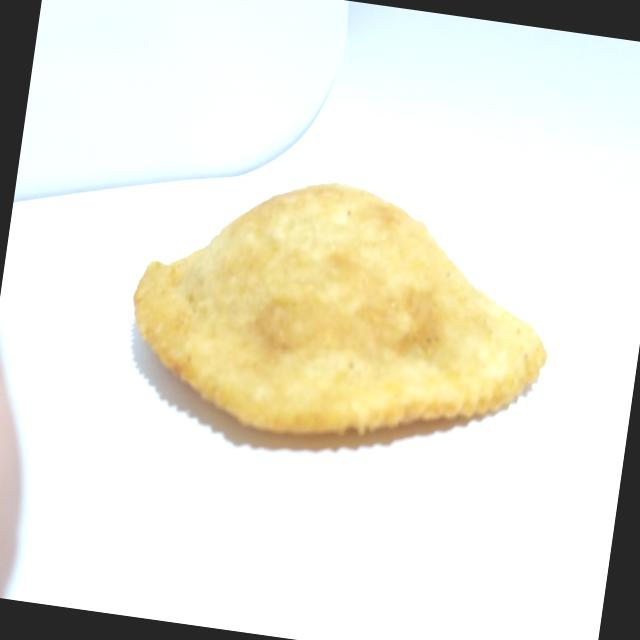Pastel_Mandio: (99, 129, 585, 504)
